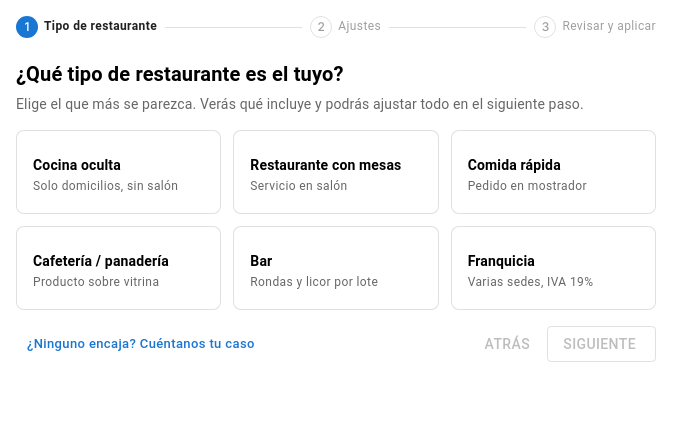
Scenario: Paso 1 — Arquetipo › link "ninguno encaja" navega a pantalla de contacto
This screenshot has width=673, height=425.
Click the button "¿Ninguno encaja? Cuéntanos tu caso" at coordinates (138, 344), box left=16, top=329, right=260, bottom=360
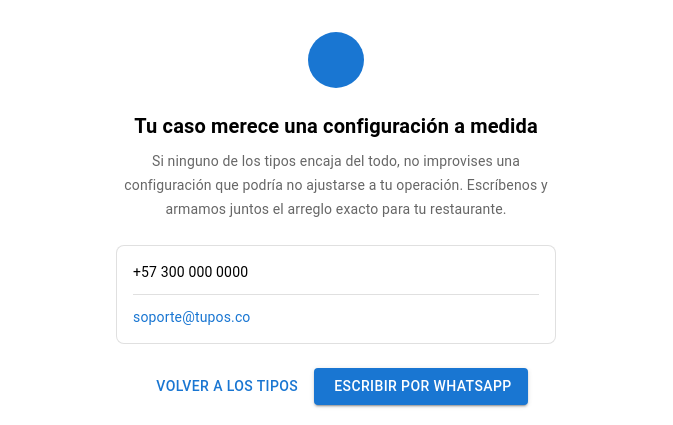
Check: the heading "Tu caso merece una configuración a medida" is shown, box left=116, top=110, right=556, bottom=142
Check: the button "Volver a los tipos" is shown, box left=144, top=368, right=306, bottom=405
